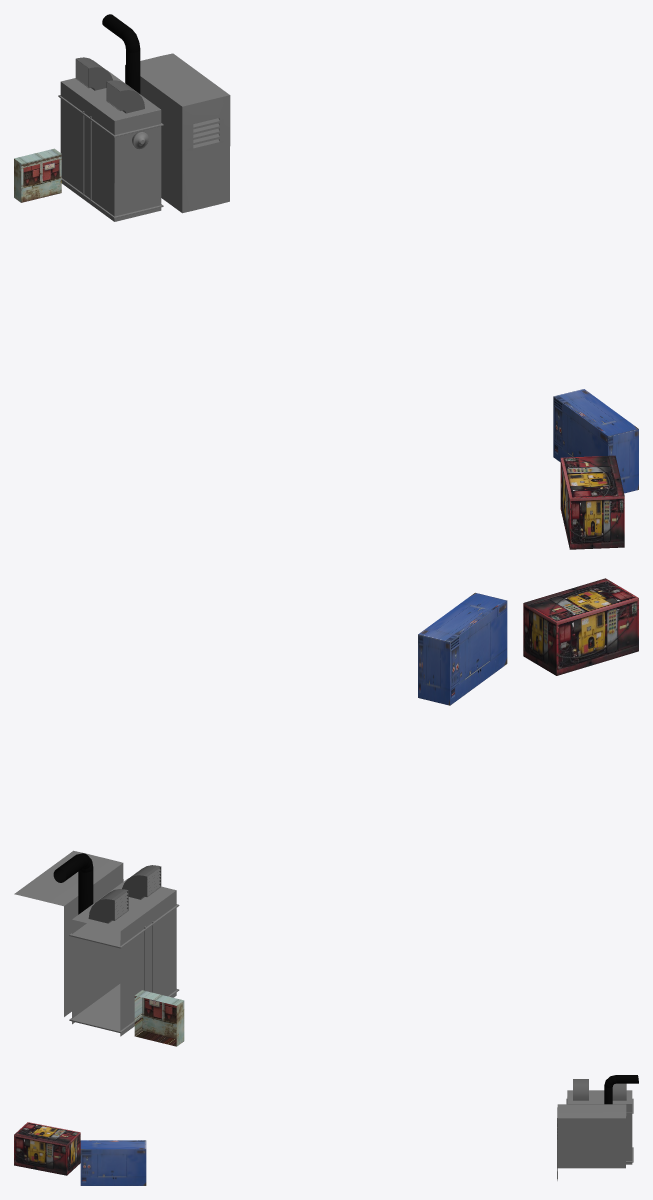
The model's file is pechka.FBX.
The picture shows the model from 3 angles, top to bottom: view 1: azimuth 30°, elevation 25°; view 2: azimuth 150°, elevation 25°; view 3: azimuth 270°, elevation 25°; orthographic projection. The views are drawn at different scales.
Parts seen in each view (by area): view 1: AI20_011_166, AI20_011_397, AI20_011_398; view 2: AI20_011_166, AI20_011_397, AI20_011_398; view 3: AI20_011_166, AI20_011_398, AI20_011_397.
Boxes of the visible parts, x1,y1,x2,y2 form: AI20_011_166: (14,14,230,221); AI20_011_397: (560,455,624,549); AI20_011_398: (553,389,638,493); AI20_011_166: (14,850,184,1046); AI20_011_397: (523,578,638,675); AI20_011_398: (418,592,507,705); AI20_011_166: (557,1075,638,1180); AI20_011_398: (80,1140,146,1185); AI20_011_397: (14,1122,80,1175).
Size of the model in its own units: 543 by 465 by 2890.
